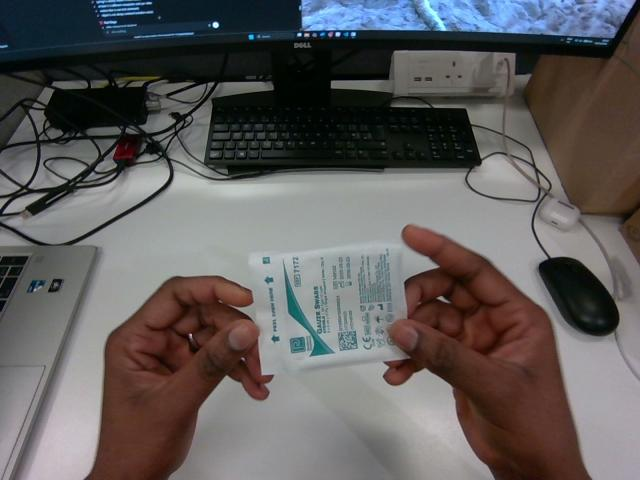gauze: (249, 243, 406, 373)
